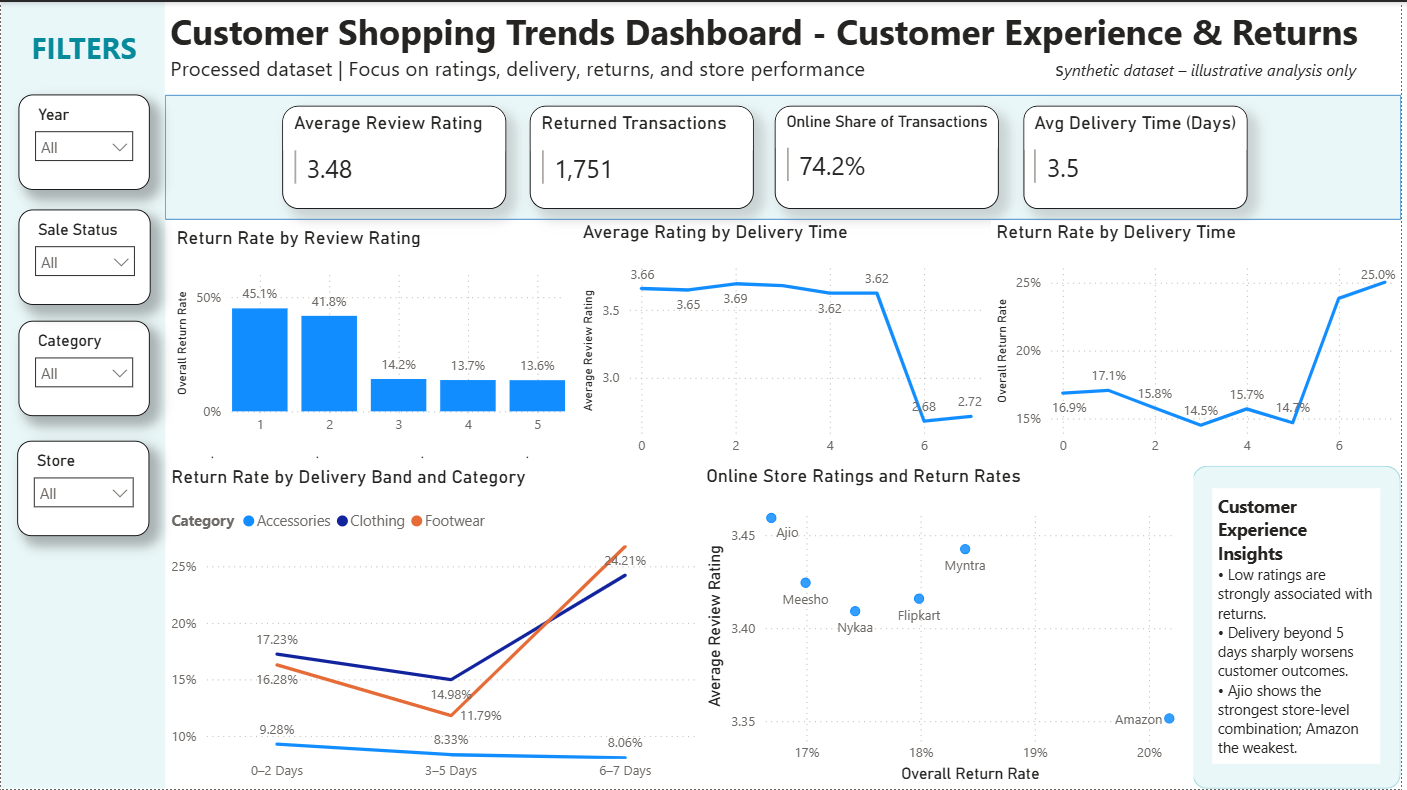

This screenshot's page, from the dashboard's own definition file:
{"tool":"powerbi","page":{"name":"Customer Experience & Returns","canvas":[1280,720],"ordinal":1},"visuals":[{"type":"shape","box":[149.6,84.8,1130.8,114.7],"z":0},{"type":"shape","box":[0,0,150.3,719.3],"z":1000},{"type":"textbox","box":[149.6,0,1130.2,84.6],"z":2000},{"type":"clusteredColumnChart","title":"Return Rate by Review Rating","fields":{"Category":["ShoppingData.Review Rating"],"Y":["ShoppingData.Overall Return Rate"]},"box":[150.9,199.5,375.3,209.5],"z":3000},{"type":"lineChart","title":"Average Rating by Delivery Time","fields":{"Y":["ShoppingData.Average Review Rating"],"Category":["ShoppingData.Delivery Time (Days)"]},"box":[527.4,199.5,375.3,223.2],"z":4000},{"type":"lineChart","title":"Return Rate by Delivery Band and Category","fields":{"Category":["ShoppingData.Delivery Time Band"],"Y":["ShoppingData.Overall Return Rate"],"Series":["ShoppingData.Category"]},"box":[150.9,423.9,488.7,296.7],"z":6000},{"type":"textbox","box":[21.2,18.7,108.5,45.9],"z":8000},{"type":"slicer","fields":{"Values":["ShoppingData.Month Start.Variation.Date Hierarchy.Year"]},"box":[16.2,84.8,119.7,87.3],"z":9000},{"type":"shape","box":[1089.7,423.9,190.8,295.5],"z":10000},{"type":"textbox","box":[1107.1,445.1,153.4,251.8],"z":11000},{"type":"group","id":"g1","title":"Group 1","box":[256.8,94.8,881.5,94.8],"z":12000},{"type":"multiRowCard","title":"Returned Transactions","fields":{"Values":["ShoppingData.Returned Transactions"]},"box":[483.6,94.8,204.5,94.6],"z":13000,"group":"g1"},{"type":"multiRowCard","title":"Online Share of Transactions","fields":{"Values":["ShoppingData.Online Share of Transactions"]},"box":[707.6,94.8,204.5,94.6],"z":14000,"group":"g1"},{"type":"slicer","fields":{"Values":["ShoppingData.Category"]},"box":[16.2,291.7,119.7,87.3],"z":14000},{"type":"multiRowCard","title":"Avg Delivery Time (Days)","fields":{"Values":["ShoppingData.Avg Delivery Time Online"]},"box":[934.4,94.8,204.5,94.6],"z":15000,"group":"g1"},{"type":"slicer","fields":{"Values":["ShoppingData.Online Store"]},"box":[15,401.5,120.9,87.3],"z":15000},{"type":"lineChart","title":"Return Rate by Delivery Time","fields":{"Category":["ShoppingData.Delivery Time (Days)"],"Y":["ShoppingData.Overall Return Rate"]},"box":[905.1,199.5,375.3,223.2],"z":15001},{"type":"scatterChart","title":"Online Store Ratings and Return Rates","fields":{"X":["ShoppingData.Overall Return Rate"],"Y":["ShoppingData.Average Review Rating"],"Category":["ShoppingData.Online Store"]},"box":[639.6,422.6,450.1,295.5],"z":15002},{"type":"slicer","fields":{"Values":["ShoppingData.Sale Status"]},"box":[16.2,189.5,120.9,87.3],"z":15003},{"type":"multiRowCard","title":"Average Review Rating","fields":{"Values":["ShoppingData.Average Review Rating"]},"box":[256.8,94.8,204.5,94.6],"z":16000,"group":"g1"}]}

Visuals, with their boxes in screenshot pixels (x1, y1, x2, y2), scaled from the page's 1280x720 canvas onto the 1407x790 screenshot:
shape: 164 93 1406 219
shape: 0 0 165 789
textbox: 164 0 1406 93
"Return Rate by Review Rating" clusteredColumnChart: 166 219 578 449
"Average Rating by Delivery Time" lineChart: 580 219 992 464
"Return Rate by Delivery Band and Category" lineChart: 166 465 703 789
textbox: 23 21 143 71
slicer - ShoppingData.Month Start.Variation.Date Hierarchy.Year: 18 93 149 189
shape: 1198 465 1406 789
textbox: 1217 488 1386 765
"Group 1" group: 282 104 1251 208
"Returned Transactions" multiRowCard: 532 104 756 208
"Online Share of Transactions" multiRowCard: 778 104 1003 208
slicer - ShoppingData.Category: 18 320 149 416
"Avg Delivery Time (Days)" multiRowCard: 1027 104 1252 208
slicer - ShoppingData.Online Store: 16 441 149 536
"Return Rate by Delivery Time" lineChart: 995 219 1406 464
"Online Store Ratings and Return Rates" scatterChart: 703 464 1198 788
slicer - ShoppingData.Sale Status: 18 208 151 304
"Average Review Rating" multiRowCard: 282 104 507 208
